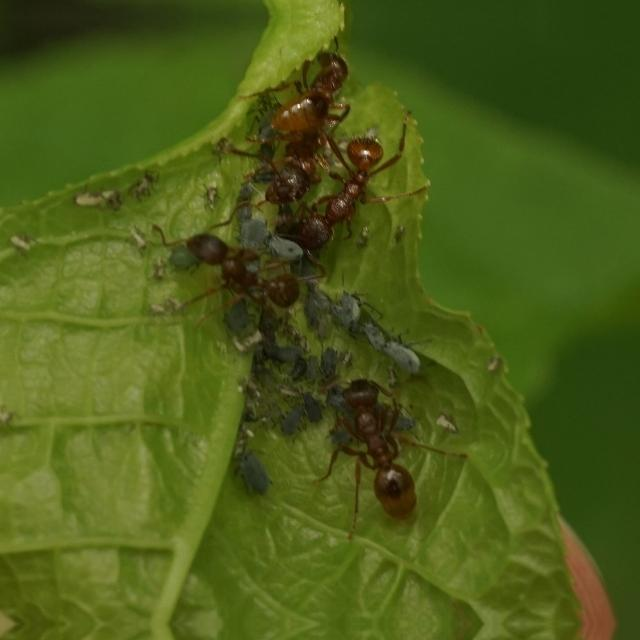Myrmica: (298, 348, 448, 538), (284, 123, 418, 261), (164, 211, 316, 327), (258, 33, 366, 139), (256, 108, 324, 212)
